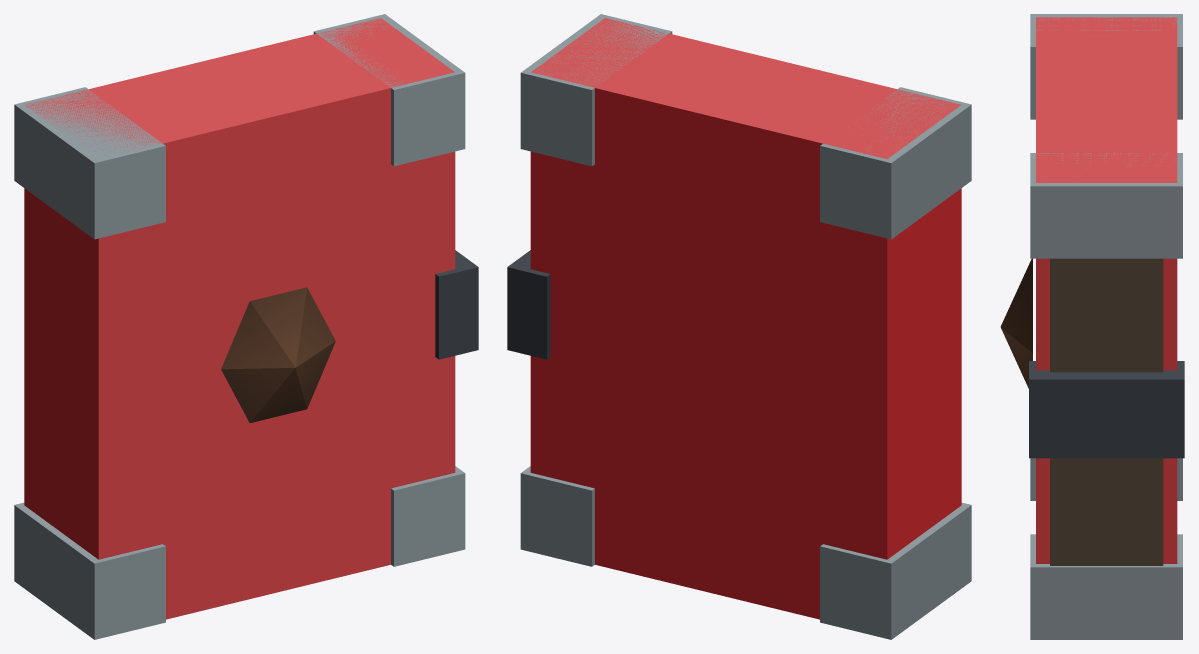
Rendered from mage_tome_1.gltf.
The picture shows the model from 3 angles, left to right: view 1: azimuth 30°, elevation 25°; view 2: azimuth 150°, elevation 25°; view 3: azimuth 270°, elevation 25°; orthographic projection. The views are drawn at different scales.
Visible parts, largest first — view 1: mage_tome_1; view 2: mage_tome_1; view 3: mage_tome_1.
Boxes of the visible parts, x1,y1,x2,y2 form: mage_tome_1: (14, 14, 478, 639); mage_tome_1: (507, 14, 971, 639); mage_tome_1: (1000, 14, 1184, 639).
Size of the model in its own units: 0.3872 by 0.46 by 0.1691.
Materials: 1 (1 with a texture image).
